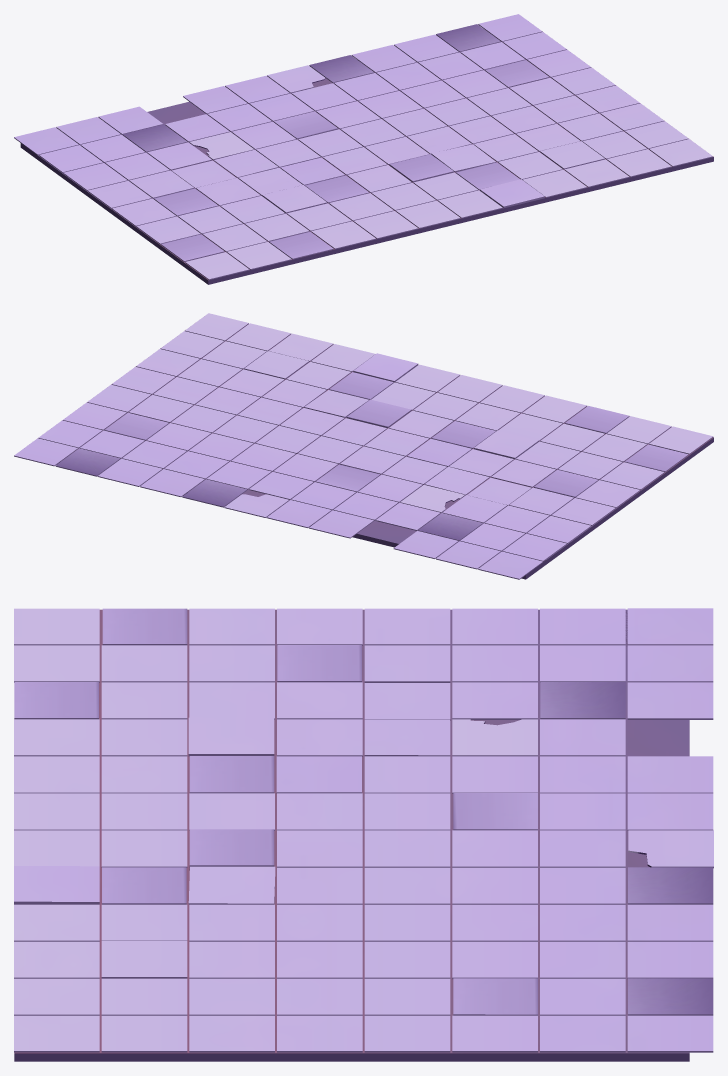
Rendered from suelo_2.fbx.
The picture shows the model from 3 angles, top to bottom: view 1: azimuth 30°, elevation 25°; view 2: azimuth 150°, elevation 25°; view 3: azimuth 270°, elevation 25°; orthographic projection. The views are drawn at different scales.
Parts seen in each view (by area): view 1: Cube.016; view 2: Cube.016; view 3: Cube.016.
Part boxes in pixels (bbox=[...]): Cube.016: bbox=[14, 14, 713, 284]; Cube.016: bbox=[14, 313, 713, 579]; Cube.016: bbox=[14, 608, 713, 1061].
Size of the model in its own units: 427 by 5.23 by 285.
